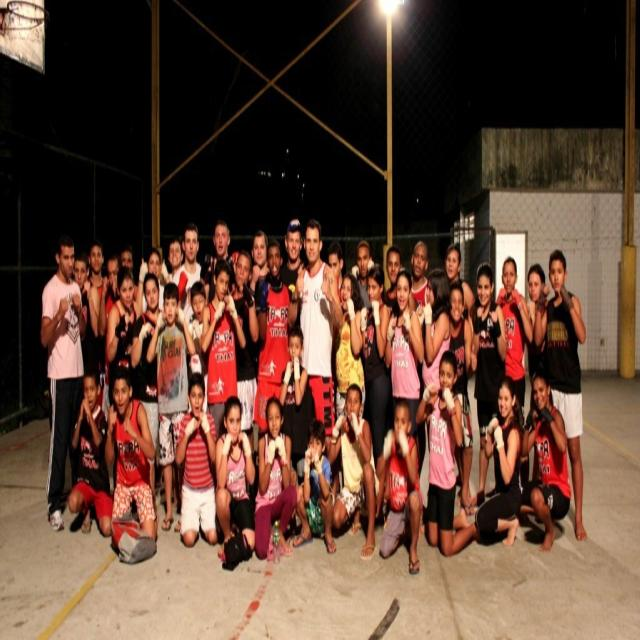body: (532, 246, 589, 542), (412, 346, 486, 559), (38, 233, 88, 533), (145, 278, 197, 534), (287, 216, 345, 438), (325, 380, 381, 563), (520, 362, 572, 554), (469, 258, 508, 504), (104, 368, 158, 544), (374, 395, 423, 577), (200, 256, 247, 440), (475, 375, 524, 547), (129, 270, 165, 496), (67, 366, 114, 539), (251, 393, 299, 562), (253, 240, 293, 442), (174, 369, 218, 550), (212, 394, 257, 560), (415, 266, 453, 462), (362, 264, 391, 520), (288, 417, 340, 555), (494, 253, 534, 428), (448, 278, 477, 519), (384, 267, 424, 438), (227, 249, 261, 438), (104, 264, 142, 405), (335, 272, 367, 420), (97, 254, 121, 424), (279, 217, 309, 327), (134, 246, 174, 324), (202, 219, 237, 306), (188, 280, 210, 412), (525, 262, 549, 383), (171, 222, 204, 308), (277, 323, 309, 409), (444, 242, 474, 328), (245, 228, 271, 318), (348, 240, 376, 310), (86, 242, 110, 306), (382, 243, 402, 316), (408, 240, 429, 308), (160, 237, 184, 285), (72, 255, 90, 308), (327, 245, 345, 298), (120, 250, 138, 298)
